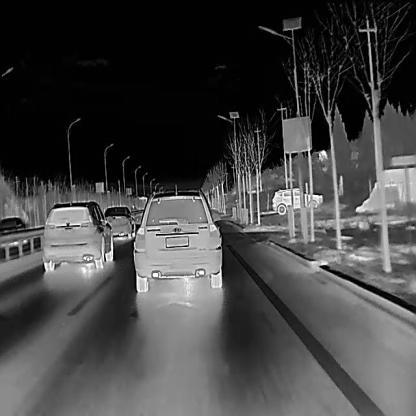car: (132, 187, 221, 292), (40, 200, 113, 272), (269, 187, 323, 214), (0, 215, 31, 255), (103, 205, 135, 239)
